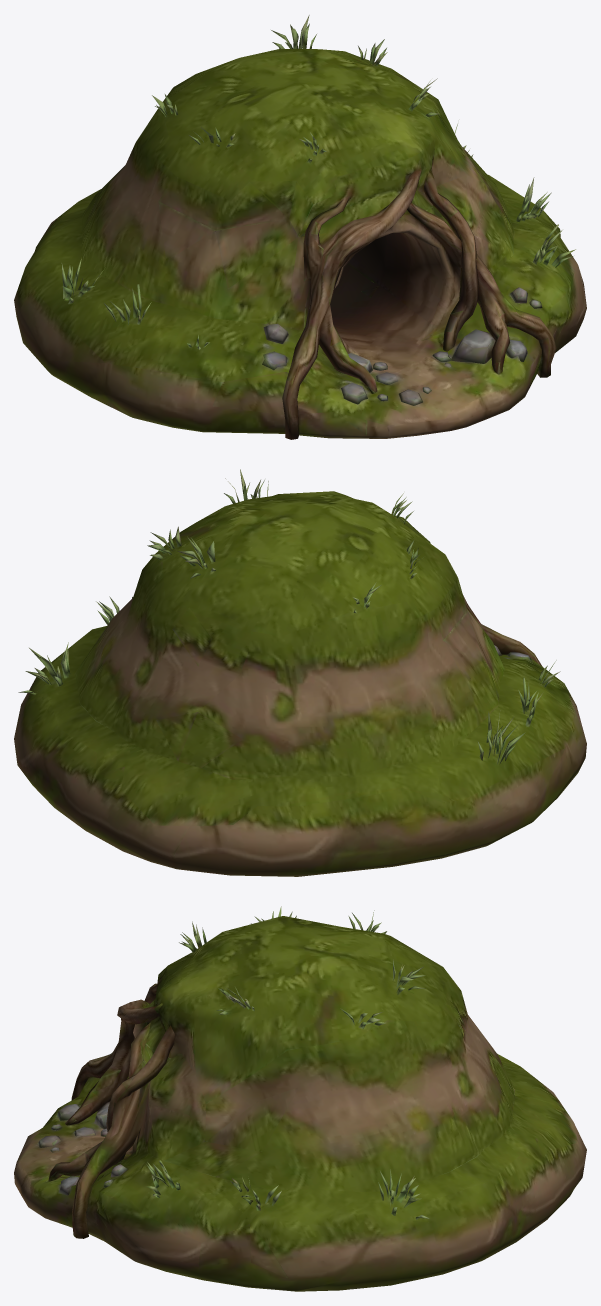
File: burrow.glb
The picture shows the model from 3 angles, top to bottom: view 1: azimuth 30°, elevation 25°; view 2: azimuth 150°, elevation 25°; view 3: azimuth 270°, elevation 25°; orthographic projection. The views are drawn at different scales.
Bounding box in the file's own units: 2.06 × 1 × 2.15.
Materials: 1 (1 with a texture image).
